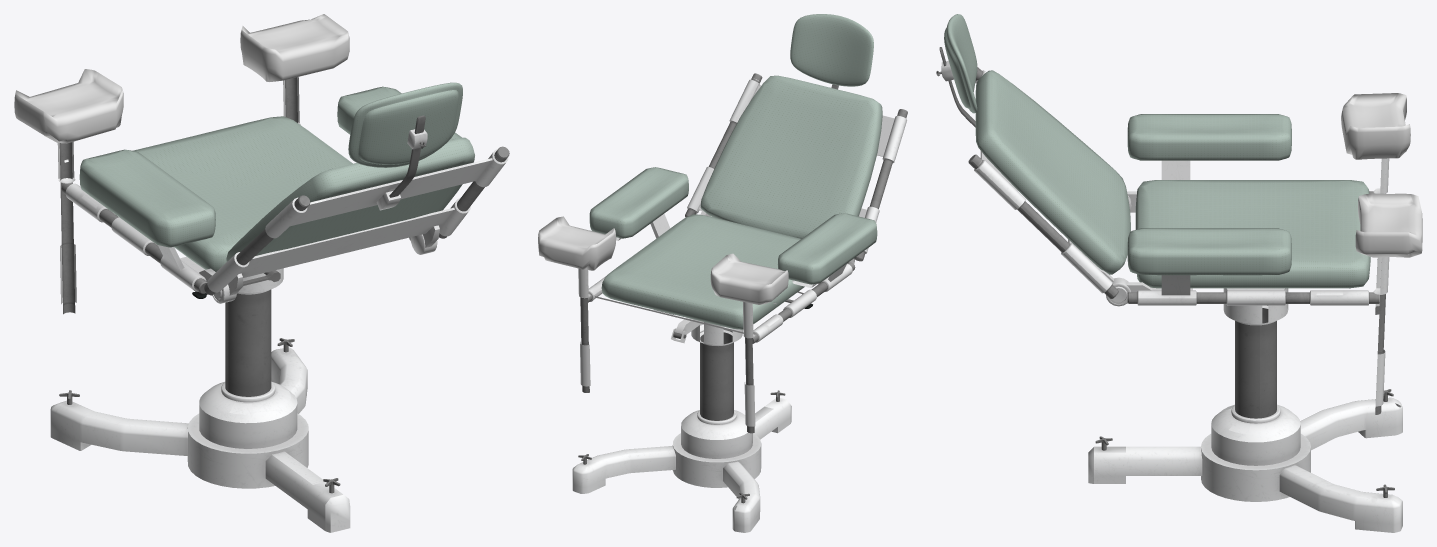
Rendered from CadeiraGine.fbx.
3 renders of one model, left to right at view 1: azimuth 30°, elevation 25°; view 2: azimuth 150°, elevation 25°; view 3: azimuth 270°, elevation 25°, orthographic. The views are drawn at different scales.
Visible parts, largest first — view 1: Construction_Cylinder, Pillow_Cube.012, Pillow_Cube.004, Pillow_Cube.003, Pillow_Cube.002, Construction_Cylinder.001, Construction_Cylinder.004, Pillow_Cube.001, Construction_Cylinder.003; view 2: Pillow_Cube.012, Construction_Cylinder, Pillow_Cube.001, Pillow_Cube.004, Construction_Cylinder.001, Pillow_Cube.002, Pillow_Cube.003, Construction_Cylinder.002, Construction_Cylinder.004, Construction_Cylinder.003; view 3: Pillow_Cube.012, Construction_Cylinder, Pillow_Cube.001, Pillow_Cube.004, Construction_Cylinder.002, Pillow_Cube.003, Pillow_Cube.002, Construction_Cylinder.001, Construction_Cylinder.003.
Part boxes in pixels (box(x1,y1,x2,y2)): Construction_Cylinder: box(50, 115, 509, 532); Pillow_Cube.012: box(132, 82, 474, 271); Pillow_Cube.004: box(79, 149, 215, 247); Pillow_Cube.003: box(14, 69, 123, 143); Pillow_Cube.002: box(240, 14, 349, 81); Construction_Cylinder.001: box(225, 302, 342, 530); Construction_Cylinder.004: box(57, 141, 76, 314); Pillow_Cube.001: box(337, 86, 461, 139); Construction_Cylinder.003: box(283, 77, 300, 124); Pillow_Cube.012: box(601, 14, 882, 329); Construction_Cylinder: box(572, 73, 907, 532); Pillow_Cube.001: box(589, 167, 688, 238); Pillow_Cube.004: box(777, 213, 877, 284); Construction_Cylinder.001: box(695, 337, 790, 439); Pillow_Cube.002: box(538, 216, 616, 270); Pillow_Cube.003: box(710, 253, 788, 304); Construction_Cylinder.002: box(588, 73, 894, 301); Construction_Cylinder.004: box(743, 302, 755, 433); Construction_Cylinder.003: box(578, 268, 590, 392); Pillow_Cube.012: box(944, 14, 1370, 288); Construction_Cylinder: box(936, 47, 1402, 532); Pillow_Cube.001: box(1127, 228, 1291, 275); Pillow_Cube.004: box(1127, 114, 1291, 160); Construction_Cylinder.002: box(972, 152, 1379, 305); Pillow_Cube.003: box(1341, 93, 1410, 159); Pillow_Cube.002: box(1355, 193, 1422, 257); Construction_Cylinder.001: box(1094, 308, 1276, 452); Construction_Cylinder.003: box(1373, 257, 1389, 414).
Size of the model in its own units: 72.75 by 109 by 106.
